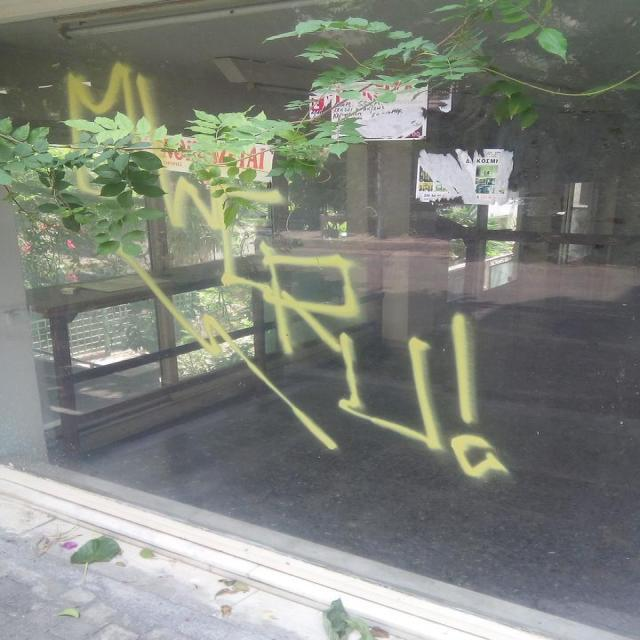nonspitting: (61, 62, 510, 480)
